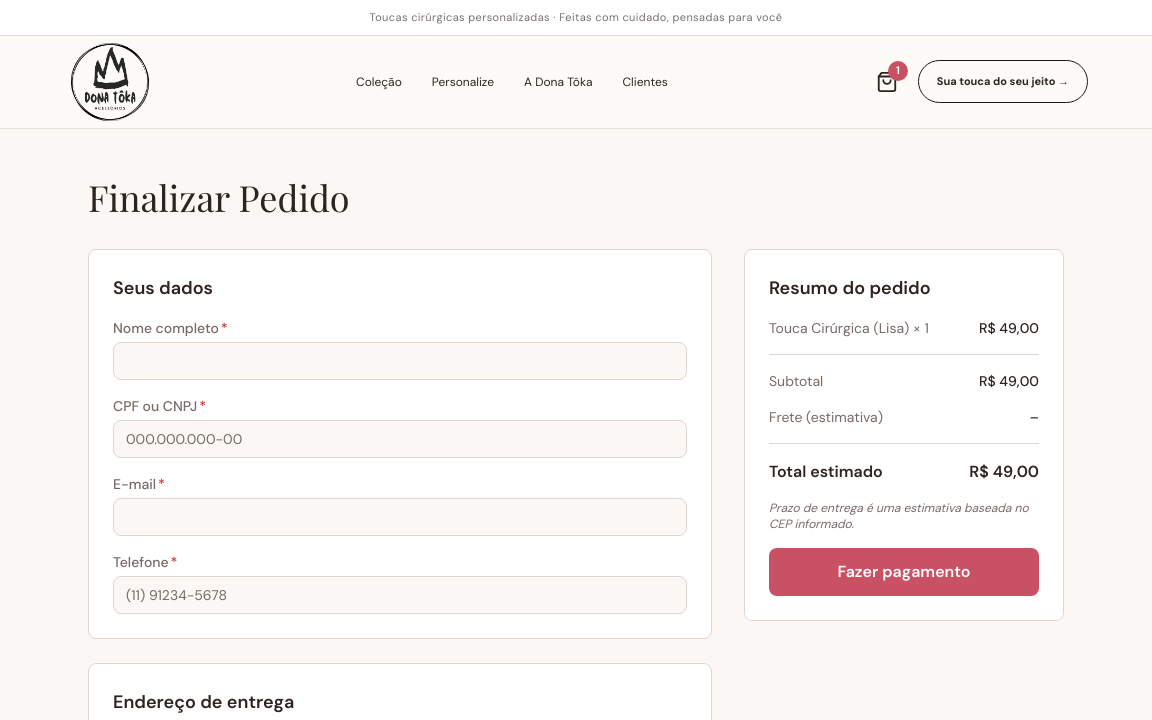
Test case: checkout form — validation › preserves valid entered values when validation fails
Expected: the heading "Finalizar Pedido" is shown, [88, 172, 350, 220]
Type "Ana Lima" into the field labelled "Nome completo*" at [400, 360], box [113, 342, 687, 380]
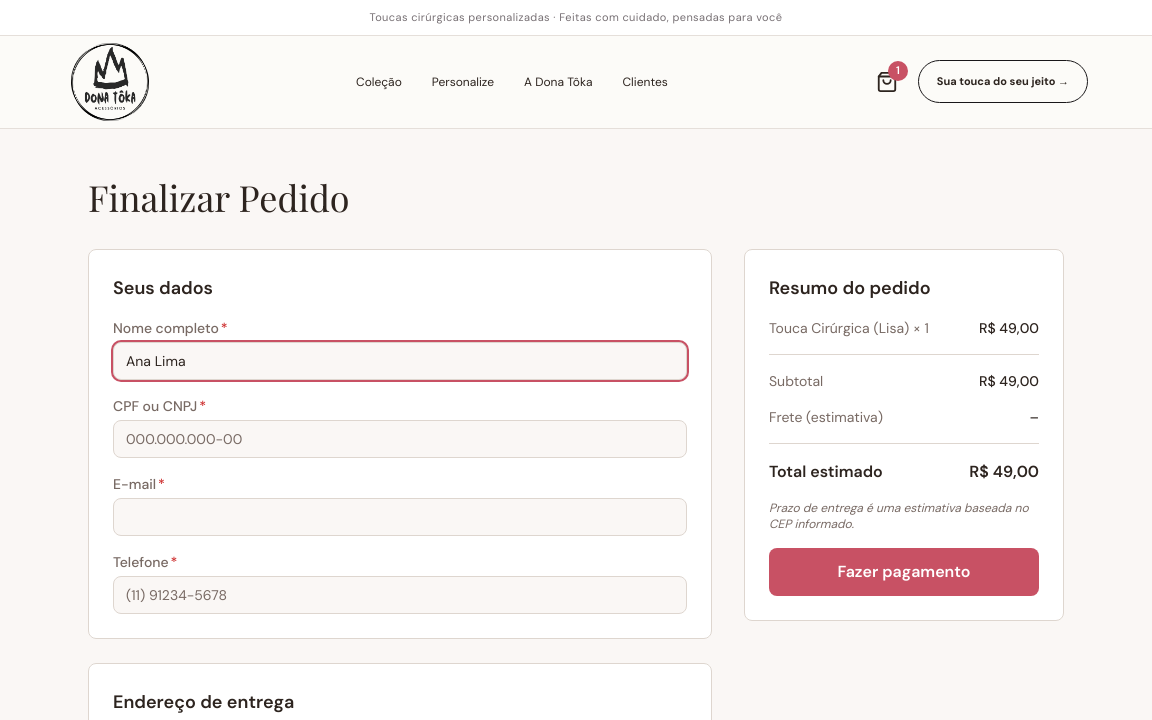
Click the button "Fazer pagamento" at [904, 572], box [769, 548, 1039, 596]
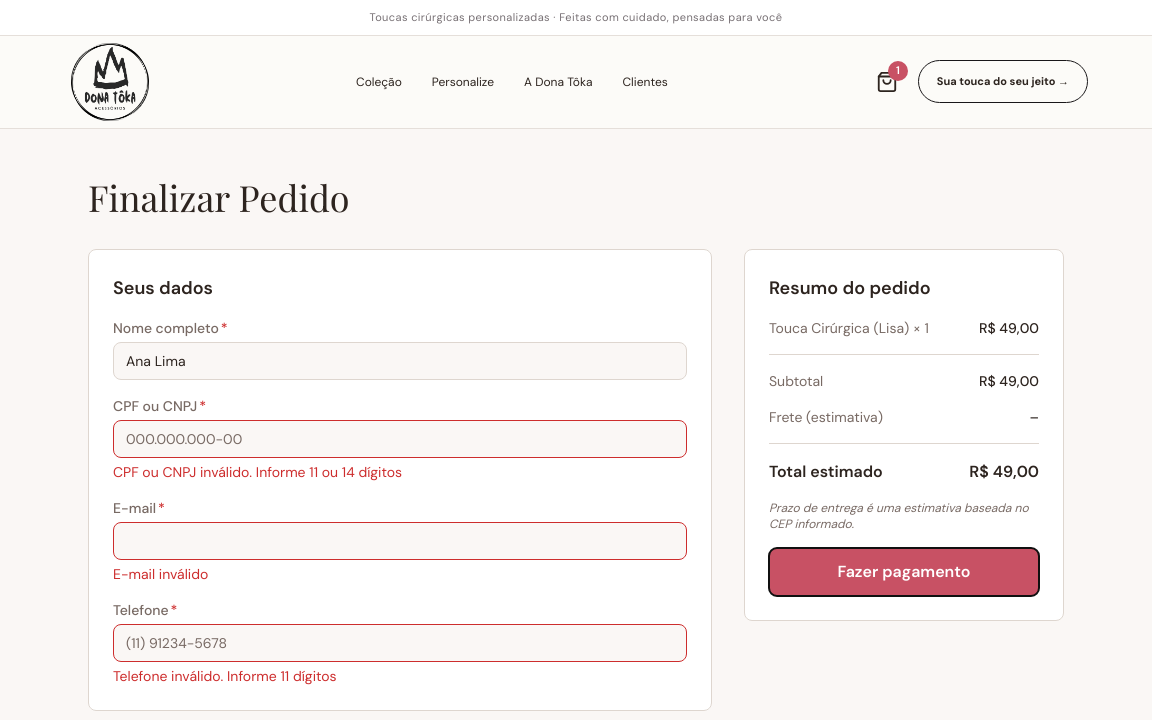
Now the message "CPF ou CNPJ inválido. Informe 11 ou 14 dígitos" is shown, box [113, 462, 402, 480]
